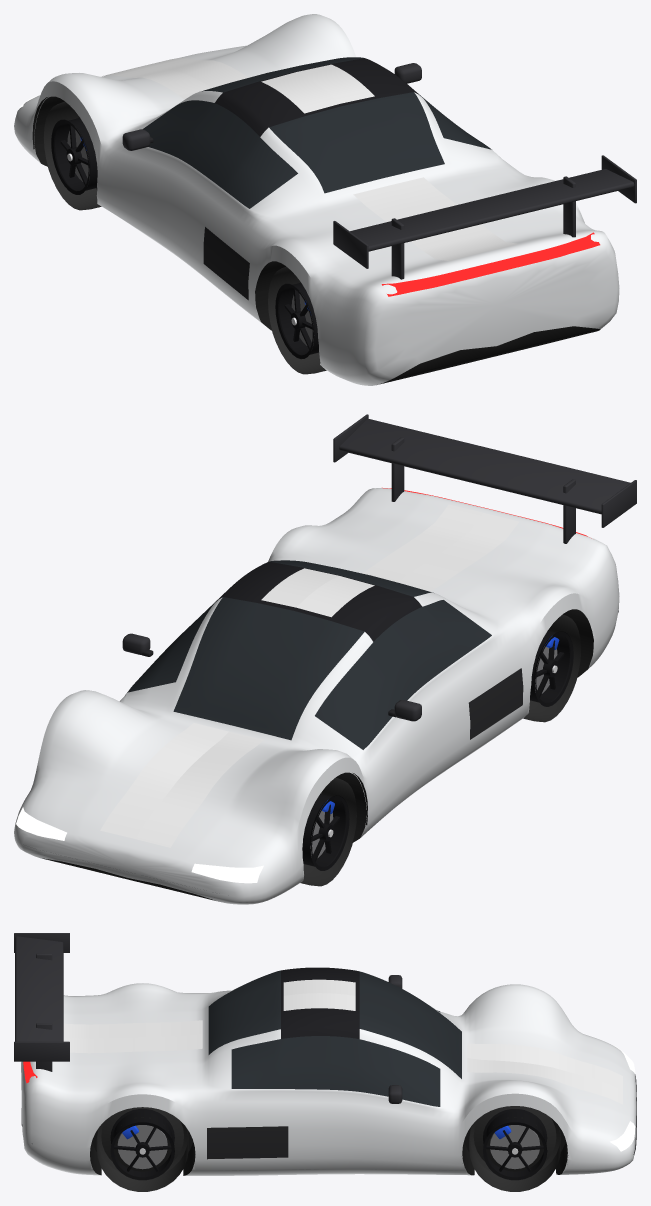
File: leaf_rc.glb
3 views of the same model, one above another, from view 1: azimuth 30°, elevation 25°; view 2: azimuth 150°, elevation 25°; view 3: azimuth 270°, elevation 25° (orthographic). The views are drawn at different scales.
Visible parts, largest first — view 1: Body, Wheel_FL, Wheel_RL; view 2: Body, Wheel_FL, Wheel_RL; view 3: Body, Wheel_FR, Wheel_RR.
Part boxes in pixels (x1,y1,x2,y2): Body: (14,14,636,385); Wheel_FL: (43,101,101,210); Wheel_RL: (268,266,326,374); Body: (14,414,636,904); Wheel_FL: (300,777,356,886); Wheel_RL: (523,614,580,722); Body: (14,933,636,1175); Wheel_FR: (469,1106,560,1191); Wheel_RR: (96,1107,188,1191).
Size of the model in its own units: 2.08 by 1.24 by 4.6.
